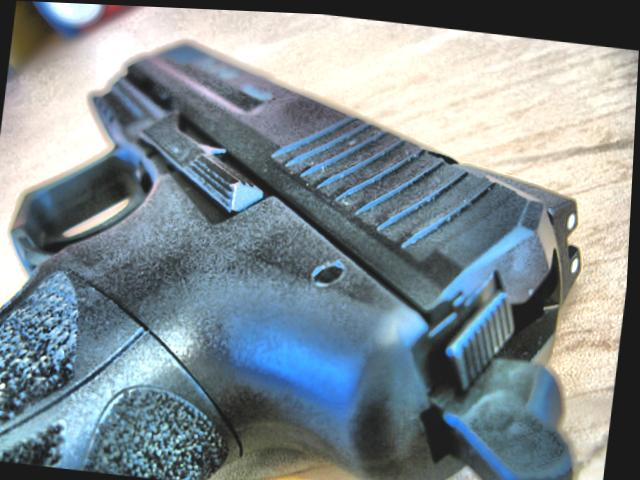pistol: (0, 18, 623, 480)
